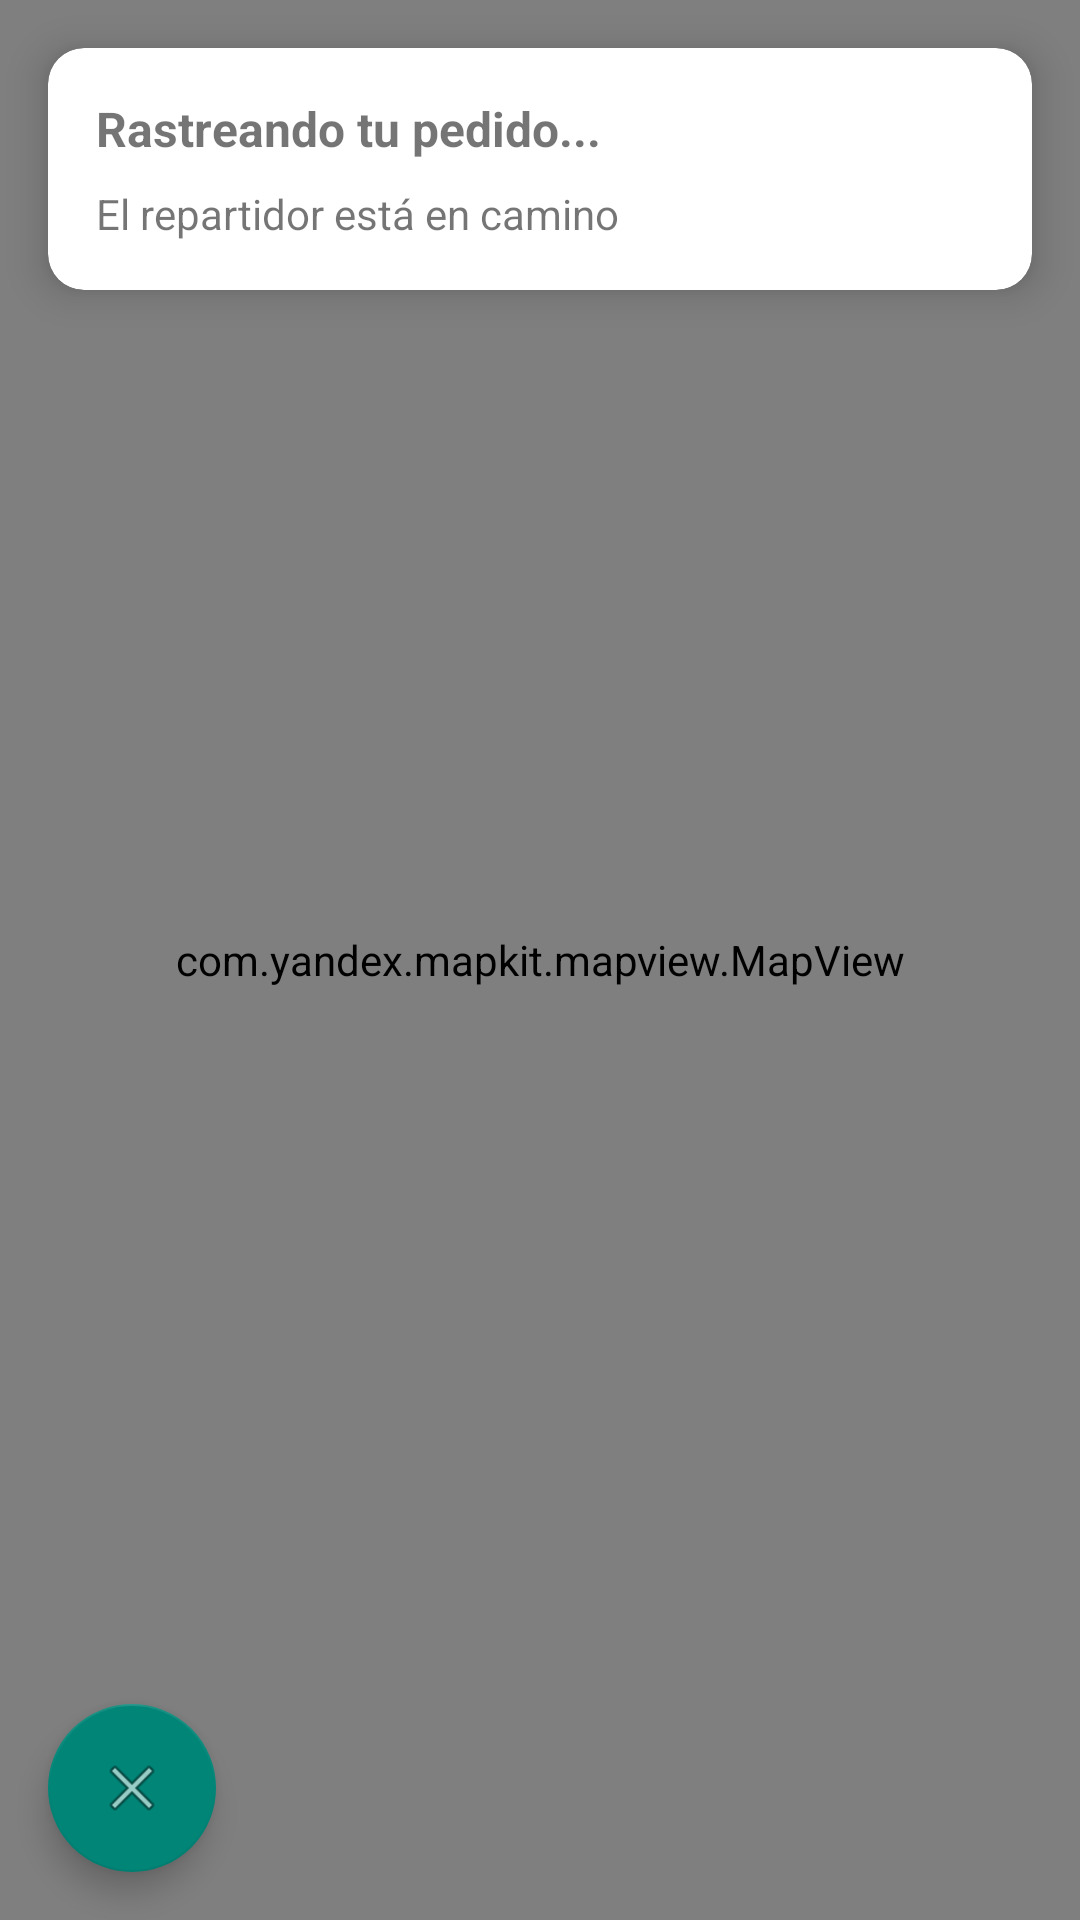

Where icons sit on this 1080 × 1920 app screen, as box(x1, y1, x2, y2):
close clear cancel: box(48, 1704, 216, 1872)
